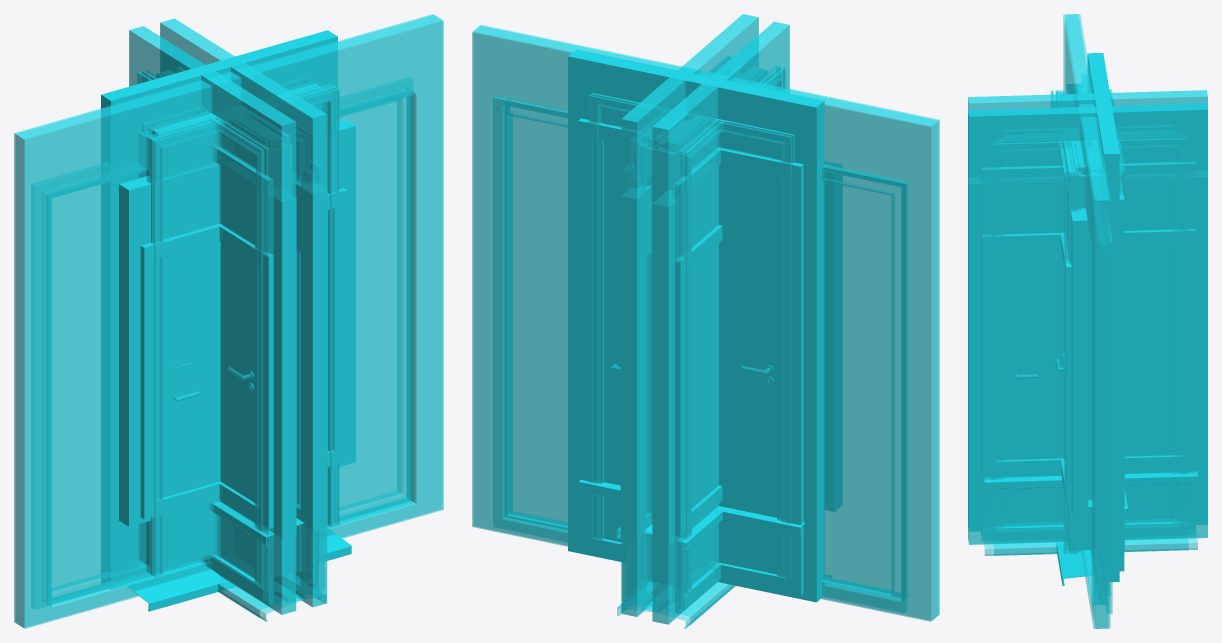
The model's file is GroundFloor_openings.glb.
The picture shows the model from 3 angles, left to right: view 1: azimuth 30°, elevation 25°; view 2: azimuth 150°, elevation 25°; view 3: azimuth 270°, elevation 25°; orthographic projection. The views are drawn at different scales.
Parts seen in each view (by area): view 1: world; view 2: world; view 3: world.
Part boxes in pixels (x1,y1,x2,y2): world: (14,14,443,628); world: (472,14,939,628); world: (968,14,1207,628).
Bounding box in the file's own units: 2.4 × 2.61 × 1.3.
